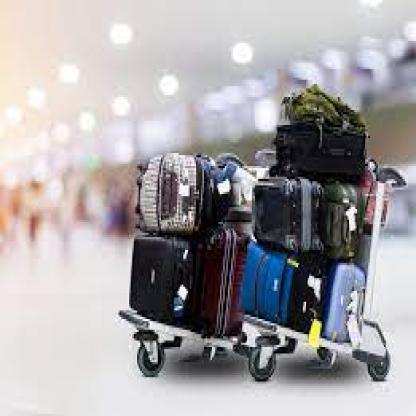airport-trolley: (245, 159, 408, 384), (117, 149, 259, 379)
